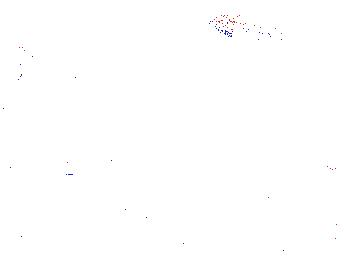X-ray fish: (4, 33, 35, 83)
glassfish: (206, 14, 317, 72)
